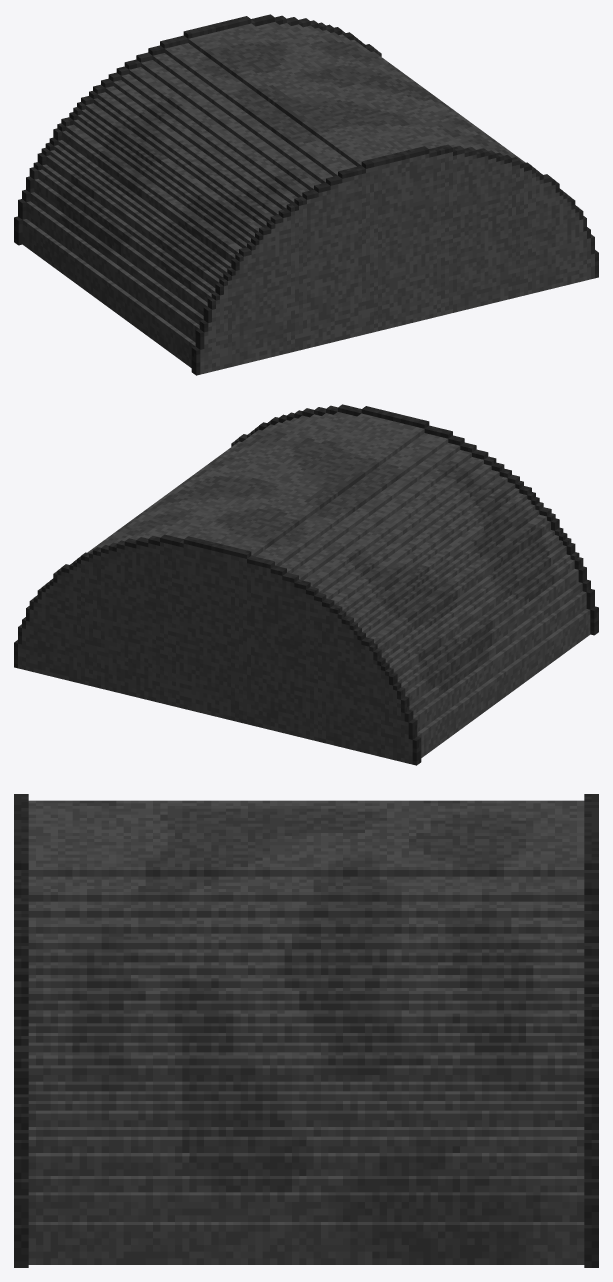
The model's file is Tubo_gigante.obj.
3 renders of one model, top to bottom at view 1: azimuth 30°, elevation 25°; view 2: azimuth 150°, elevation 25°; view 3: azimuth 270°, elevation 25°, orthographic. The views are drawn at different scales.
Bounding box in the file's own units: 10.2 × 4.1 × 8.
1 material, 1 textured.
